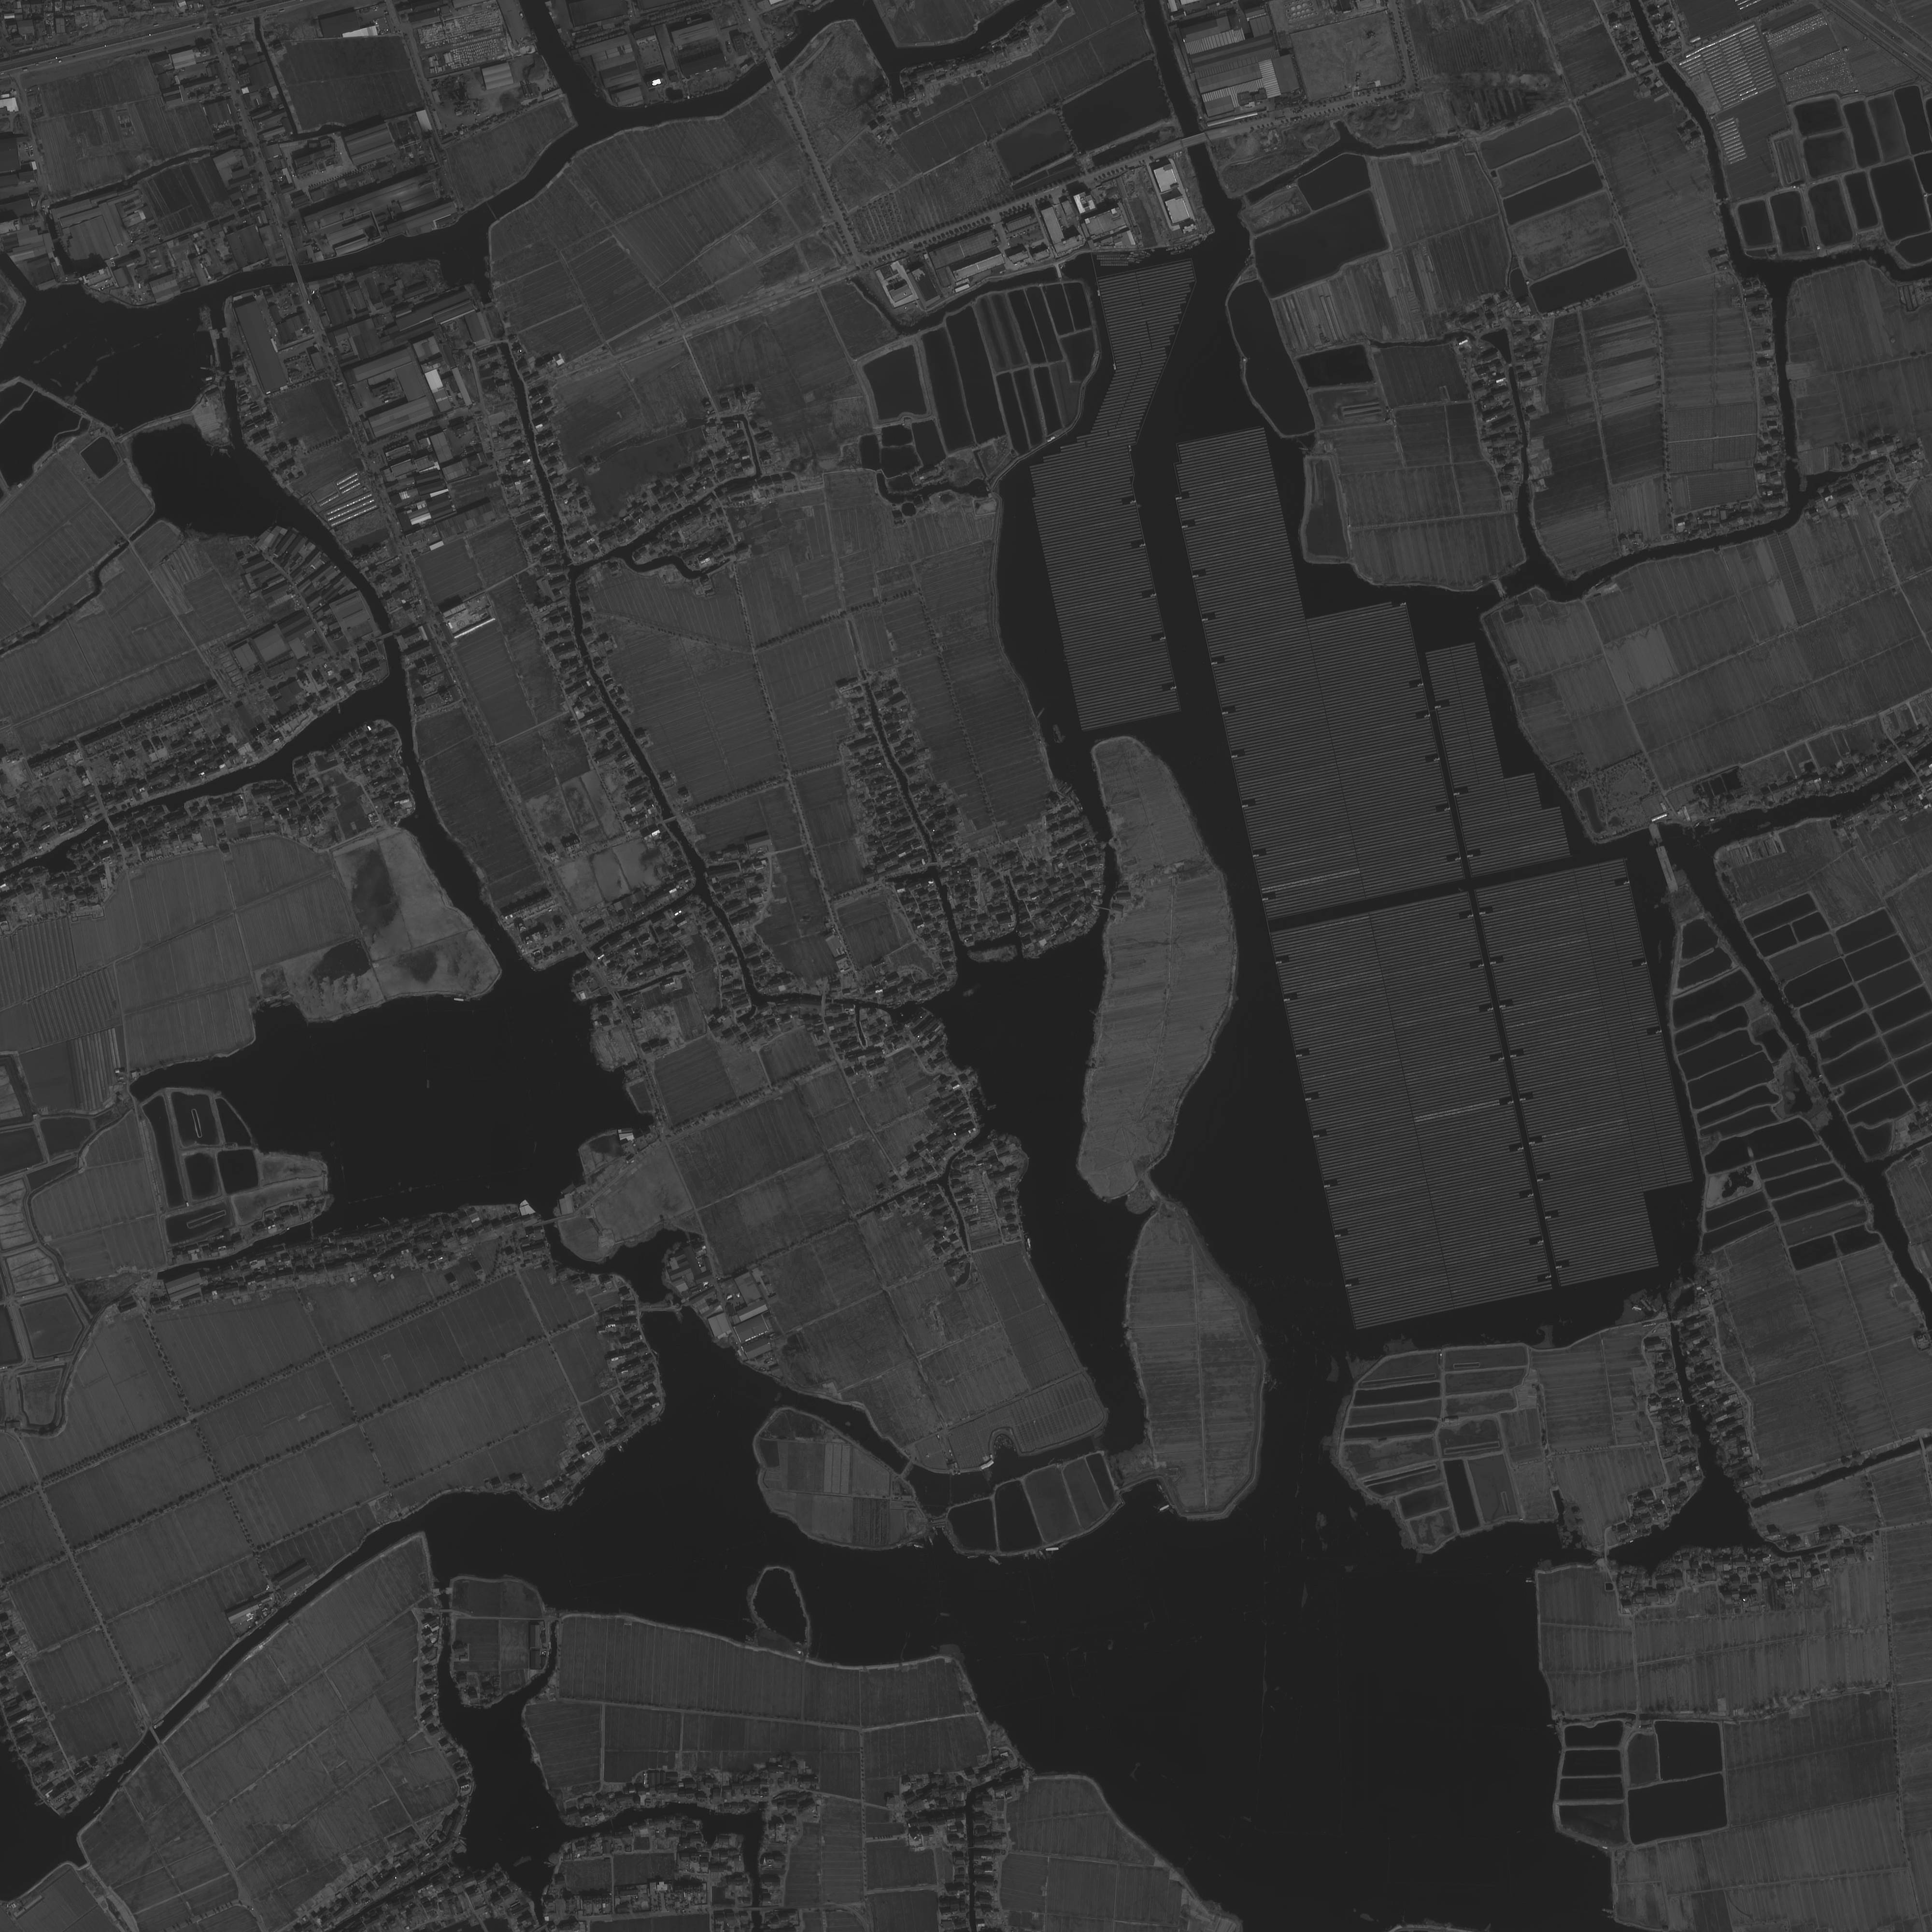bridge: (763, 51, 784, 78), (1182, 131, 1210, 147), (540, 1215, 561, 1228), (292, 262, 304, 283), (149, 1725, 161, 1744), (582, 947, 596, 961), (1652, 57, 1670, 67), (104, 817, 115, 830), (1054, 265, 1063, 280), (663, 816, 678, 824)
